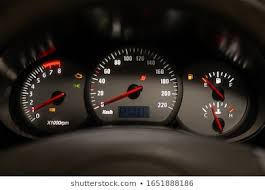Digital_Meter: (115, 104, 154, 119)
